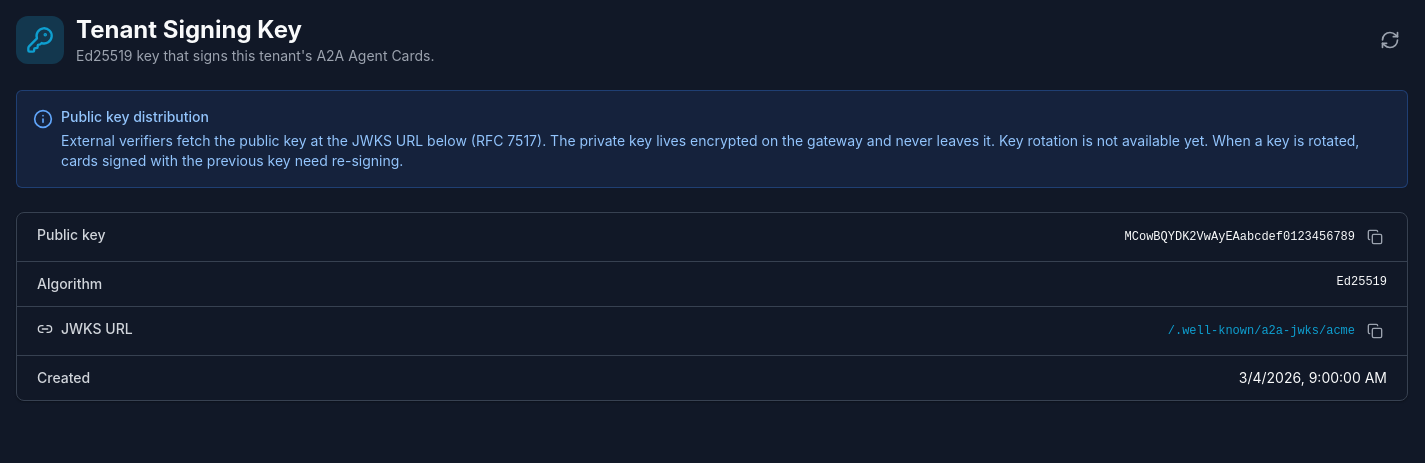
Test: A2ATenantKeyTab › shows the rotation timestamp only once a rotation has happened
Check: the text "Ed25519" is shown, box x1=1337 y1=274 x2=1387 y2=290
Check: the text "Last rotated" is not shown
Click the button titled "Refresh": (1390, 40) x1=1372 y1=22 x2=1408 y2=58
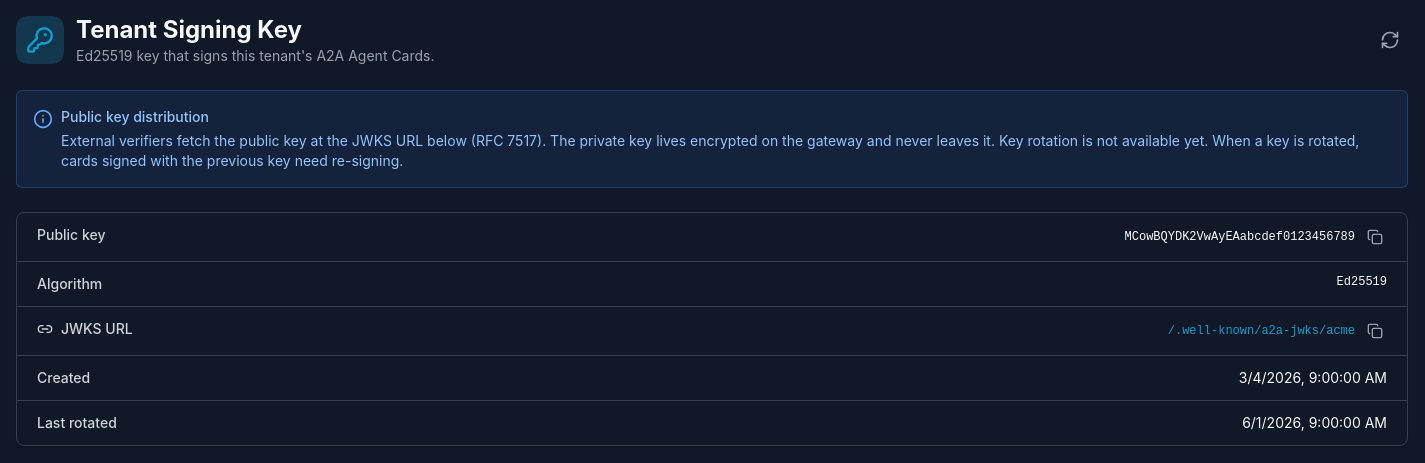
Check: the text "Last rotated" is shown, box x1=37 y1=414 x2=117 y2=431
